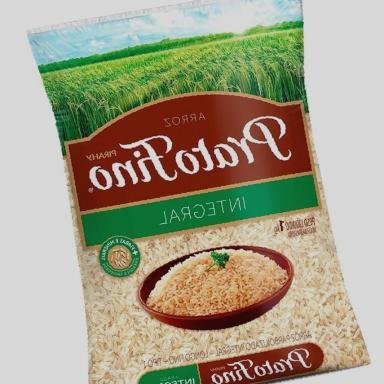rice package: (29, 0, 369, 383)
